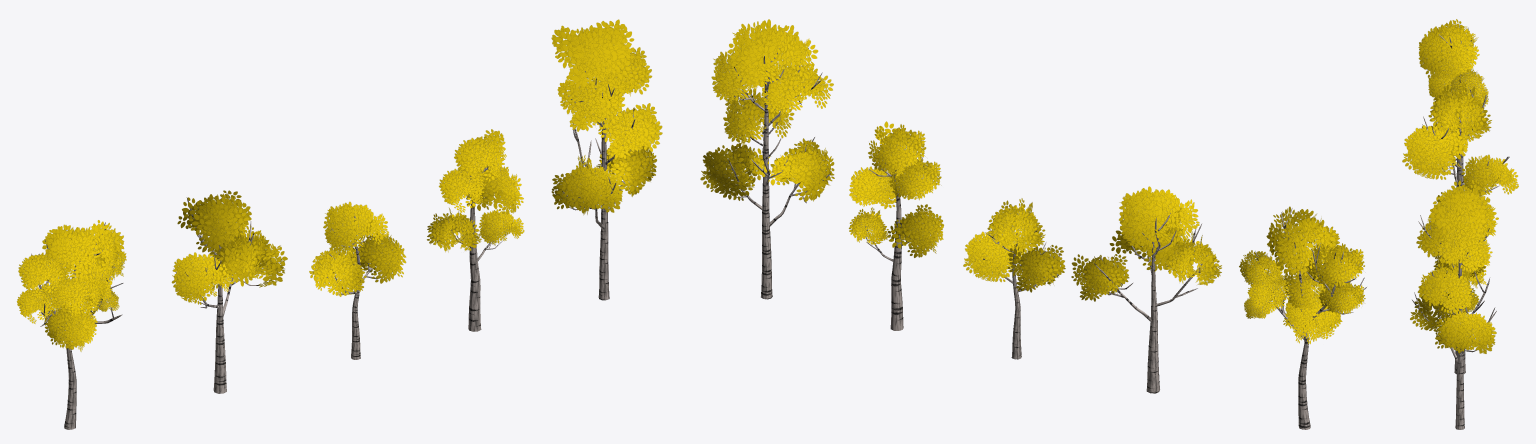
File: arbre_birch.glb
The picture shows the model from 3 angles, left to right: view 1: azimuth 30°, elevation 25°; view 2: azimuth 150°, elevation 25°; view 3: azimuth 270°, elevation 25°; orthographic projection. The views are drawn at different scales.
Visible parts, largest first — view 1: BirchTree_2, BirchTree_3, BirchTree_5, BirchTree_1, BirchTree_4; view 2: BirchTree_2, BirchTree_3, BirchTree_5, BirchTree_1, BirchTree_4; view 3: BirchTree_2, BirchTree_5, BirchTree_3, BirchTree_1.
Part boxes in pixels (x1=…): BirchTree_2: x1=551, y1=19, x2=662, y2=300; BirchTree_3: x1=17, y1=220, x2=126, y2=429; BirchTree_5: x1=171, y1=190, x2=287, y2=393; BirchTree_1: x1=427, y1=129, x2=524, y2=331; BirchTree_4: x1=309, y1=201, x2=406, y2=359; BirchTree_2: x1=700, y1=19, x2=834, y2=299; BirchTree_3: x1=1239, y1=206, x2=1366, y2=429; BirchTree_5: x1=1071, y1=186, x2=1221, y2=393; BirchTree_1: x1=848, y1=121, x2=943, y2=330; BirchTree_4: x1=963, y1=198, x2=1065, y2=359; BirchTree_2: x1=1410, y1=178, x2=1498, y2=429; BirchTree_5: x1=1402, y1=81, x2=1518, y2=196; BirchTree_3: x1=1418, y1=19, x2=1488, y2=190; BirchTree_1: x1=1425, y1=201, x2=1486, y2=374.
Size of the model in its own units: 18.56 by 7.57 by 3.51.
Materials: 2 (2 with a texture image).
